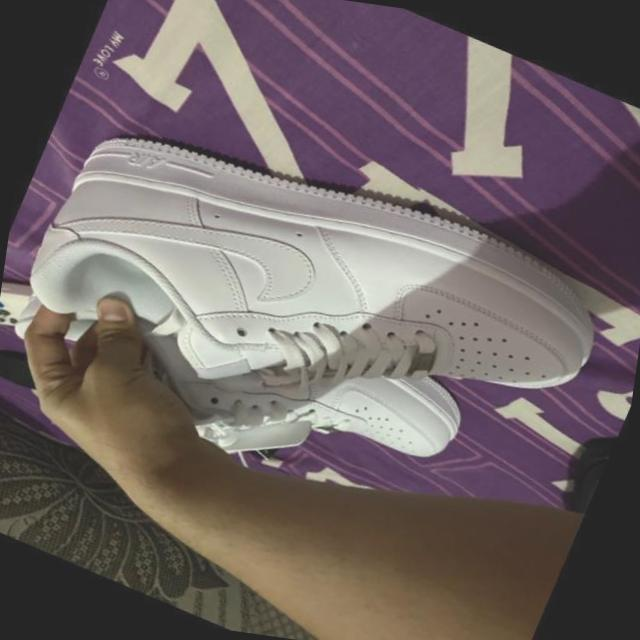nike_original_airforce: (0, 59, 640, 527), (30, 238, 487, 550)
